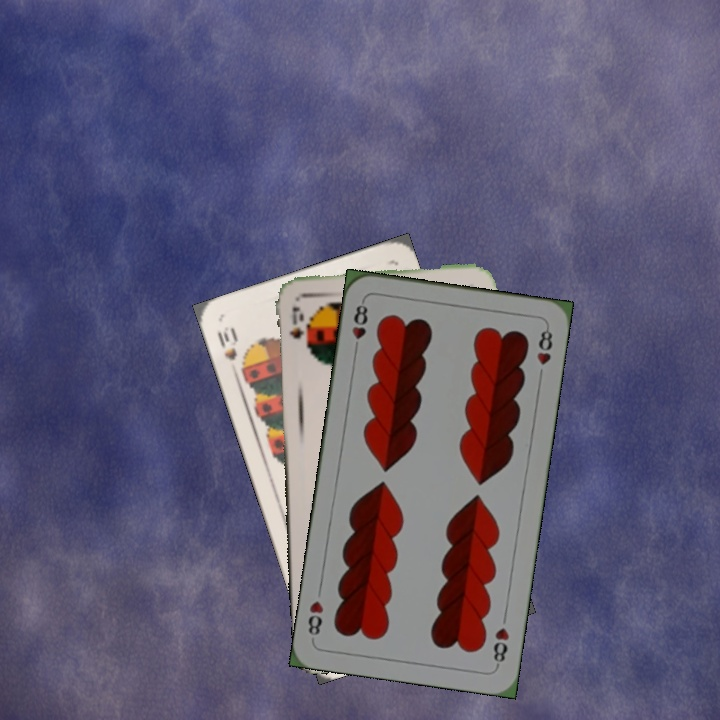H8: (348, 296, 371, 355), (489, 623, 512, 669)
S10: (213, 322, 240, 363)
SO: (285, 303, 306, 342)
